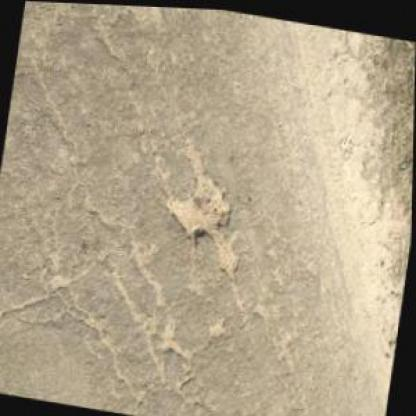pothole: (157, 143, 255, 280)
